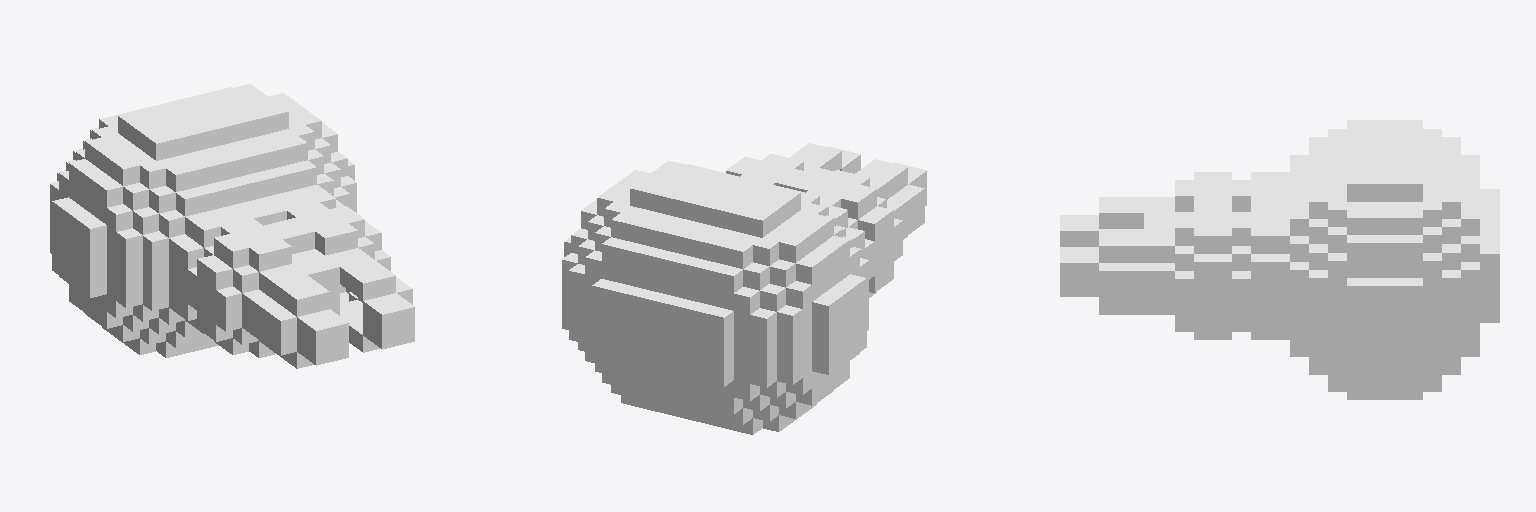
The model's file is towerTop1.obj.
3 views of the same model, side by side, from view 1: azimuth 30°, elevation 25°; view 2: azimuth 150°, elevation 25°; view 3: azimuth 270°, elevation 25° (orthographic).
Parts seen in each view (by area): view 1: object 1; view 2: object 1; view 3: object 1.
Part boxes in pixels (left/top/right/bottom): object 1: left=50, top=84, right=414, bottom=368; object 1: left=562, top=143, right=926, bottom=434; object 1: left=1060, top=120, right=1499, bottom=399.
Size of the model in its own units: 8 by 6 by 11.5.